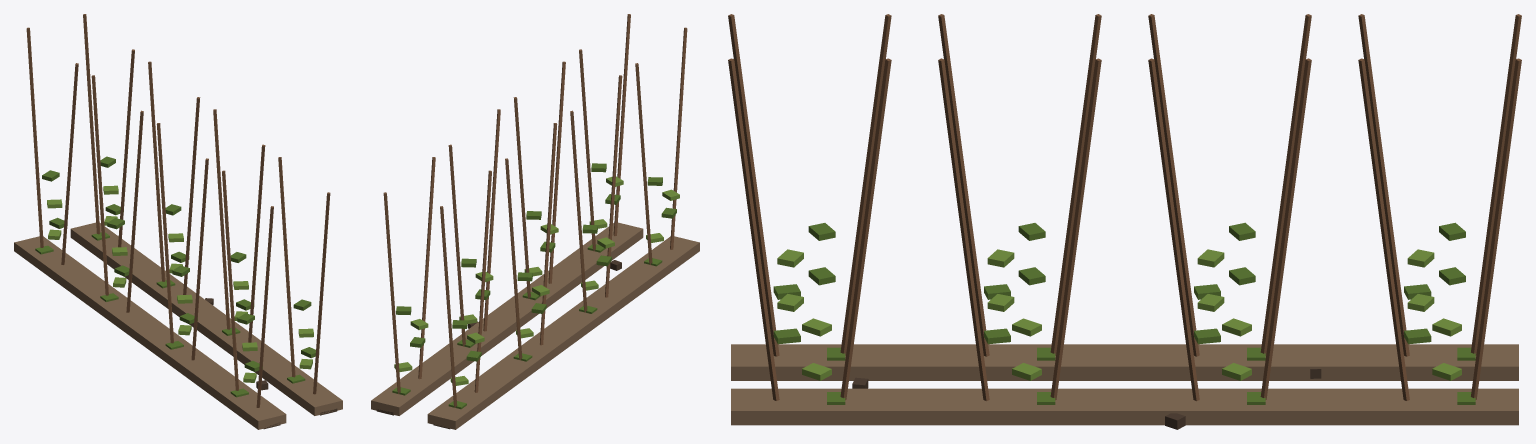
The model's file is crop_beans_2.glb.
3 views of the same model, side by side, from view 1: azimuth 30°, elevation 25°; view 2: azimuth 150°, elevation 25°; view 3: azimuth 270°, elevation 25° (orthographic). The views are drawn at different scales.
Visible parts, largest first — view 1: room_crop_beans_2; view 2: room_crop_beans_2; view 3: room_crop_beans_2.
Boxes of the visible parts, x1,y1,x2,y2 form: room_crop_beans_2: (14, 14, 342, 429); room_crop_beans_2: (371, 14, 699, 429); room_crop_beans_2: (728, 14, 1521, 429).
Bounding box in the file's own units: 0.6638 × 1.5 × 3.02.
